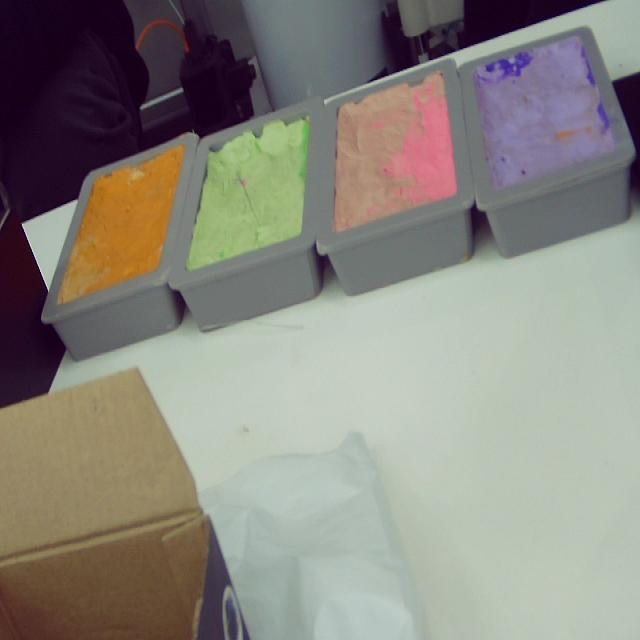block: (457, 25, 635, 257), (314, 57, 478, 295), (165, 100, 328, 330), (36, 134, 200, 360)
